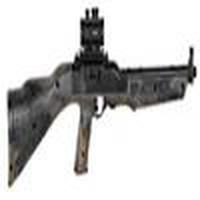gun: (4, 9, 198, 183)
